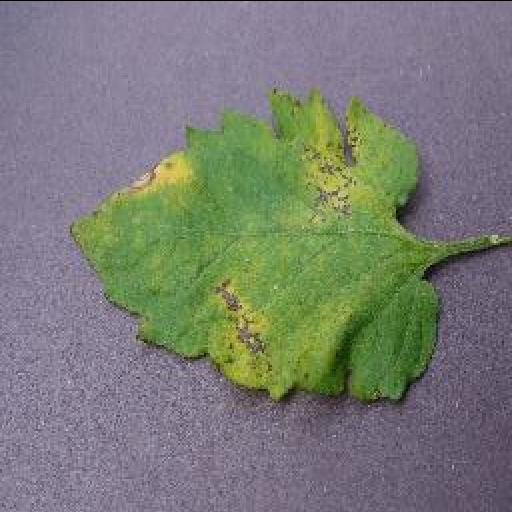disease_tomato: (64, 84, 438, 405)
